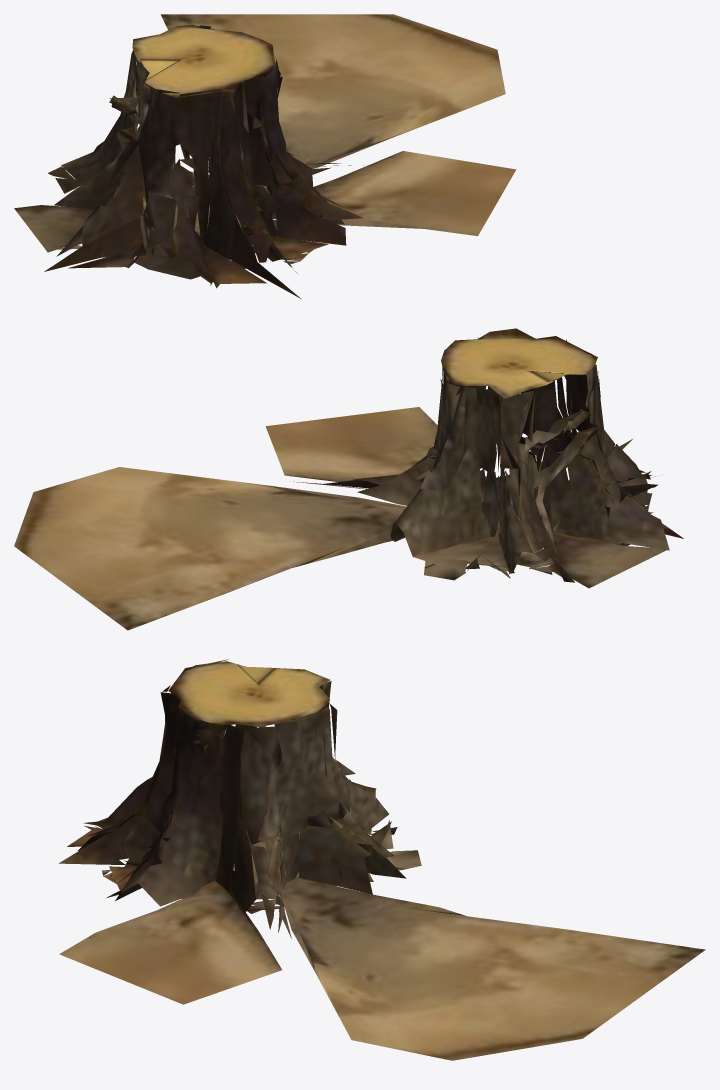
Rendered from betula_prateada_toco.glb.
3 renders of one model, top to bottom at view 1: azimuth 30°, elevation 25°; view 2: azimuth 150°, elevation 25°; view 3: azimuth 270°, elevation 25°, orthographic. The views are drawn at different scales.
Visible parts, largest first — view 1: geometry_0; view 2: geometry_0; view 3: geometry_0.
Boxes of the visible parts, box(x1,y1,x2,y2) form: geometry_0: box(14, 14, 516, 298); geometry_0: box(14, 328, 683, 630); geometry_0: box(59, 659, 705, 1060).
Bounding box in the file's own units: 0.7026 × 0.1989 × 0.6759.
Materials: 1 (1 with a texture image).
